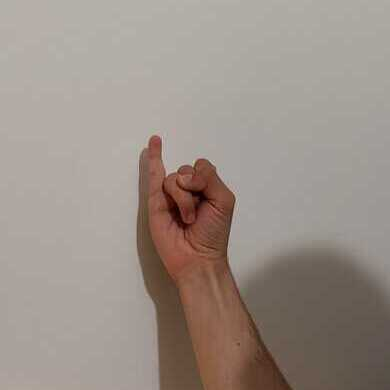I: (145, 134, 239, 283)
